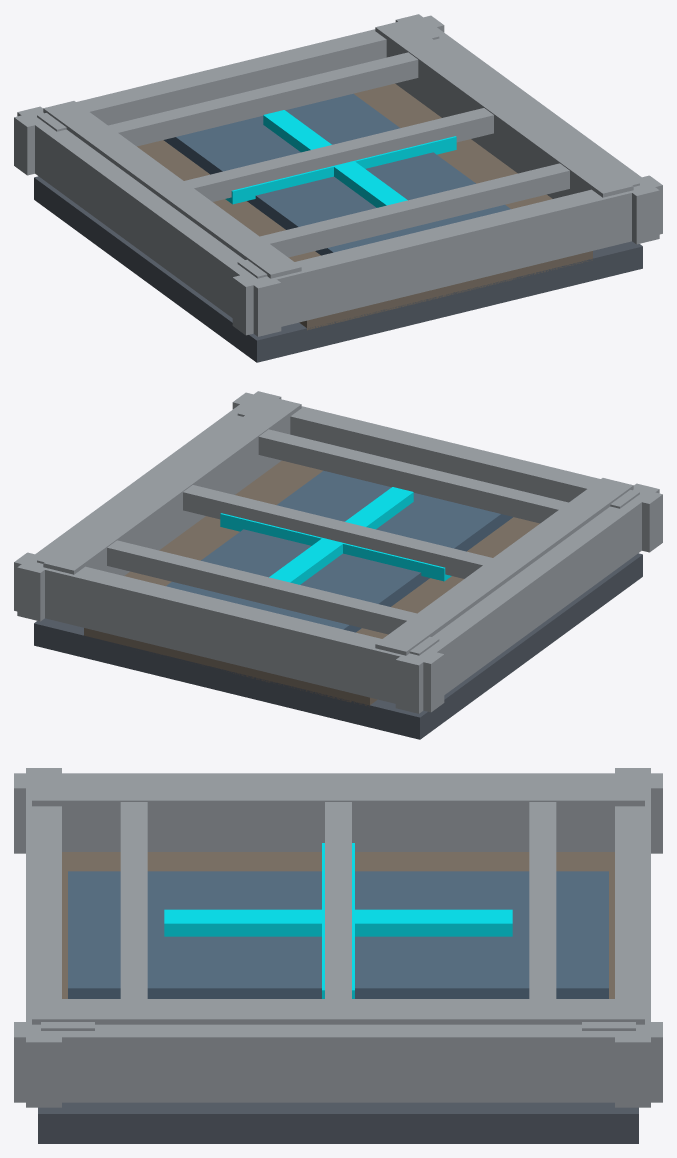
Rendered from TD_BridgeTile.fbx.
3 views of the same model, one above another, from view 1: azimuth 30°, elevation 25°; view 2: azimuth 150°, elevation 25°; view 3: azimuth 270°, elevation 25° (orthographic). The views are drawn at different scales.
Parts seen in each view (by area): view 1: TD_BridgeTile_Rail_South, TD_BridgeTile_CenterWalkPath, TD_BridgeTile_BaseGapShadow, TD_BridgeTile_Rail_West, TD_BridgeTile_SideBeam_Right, TD_BridgeTile_Rail_North, TD_BridgeTile_BridgeDeck, TD_BridgeTile_CrossBrace_01, TD_BridgeTile_CrossBrace_03, TD_BridgeTile_SideBeam_Left, TD_BridgeTile_CrossBrace_02, TD_BridgeTile_Rail_East (+2 smaller); view 2: TD_BridgeTile_Rail_North, TD_BridgeTile_CenterWalkPath, TD_BridgeTile_BaseGapShadow, TD_BridgeTile_Rail_West, TD_BridgeTile_SideBeam_Right, TD_BridgeTile_Rail_South, TD_BridgeTile_BridgeDeck, TD_BridgeTile_CrossBrace_03, TD_BridgeTile_CrossBrace_01, TD_BridgeTile_SideBeam_Left, TD_BridgeTile_CrossBrace_02, TD_BridgeTile_Rail_East (+2 smaller); view 3: TD_BridgeTile_CenterWalkPath, TD_BridgeTile_Rail_East, TD_BridgeTile_SideBeam_Left, TD_BridgeTile_BaseGapShadow, TD_BridgeTile_SideBeam_Right, TD_BridgeTile_BridgeDeck, TD_BridgeTile_Rail_North, TD_BridgeTile_Rail_South, TD_BridgeTile_Flow_North, TD_BridgeTile_Rail_West, TD_BridgeTile_CrossBrace_01, TD_BridgeTile_CrossBrace_03 (+2 smaller).
Part boxes in pixels (box(x1,y1,x2,y2)): TD_BridgeTile_Rail_South: box(232, 175, 662, 335); TD_BridgeTile_CenterWalkPath: box(163, 93, 510, 255); TD_BridgeTile_BaseGapShadow: box(34, 176, 642, 362); TD_BridgeTile_Rail_West: box(17, 106, 281, 336); TD_BridgeTile_SideBeam_Right: box(375, 20, 633, 198); TD_BridgeTile_Rail_North: box(14, 15, 444, 175); TD_BridgeTile_BridgeDeck: box(137, 83, 592, 330); TD_BridgeTile_CrossBrace_01: box(260, 163, 569, 257); TD_BridgeTile_CrossBrace_03: box(108, 52, 418, 146); TD_BridgeTile_SideBeam_Left: box(43, 101, 301, 278); TD_BridgeTile_CrossBrace_02: box(184, 108, 493, 201); TD_BridgeTile_Rail_East: box(395, 14, 659, 244); TD_BridgeTile_Rail_North: box(14, 552, 444, 712); TD_BridgeTile_CenterWalkPath: box(166, 470, 513, 632); TD_BridgeTile_BaseGapShadow: box(34, 553, 642, 739); TD_BridgeTile_Rail_West: box(395, 483, 659, 713); TD_BridgeTile_SideBeam_Right: box(43, 397, 301, 575); TD_BridgeTile_Rail_South: box(232, 392, 662, 552); TD_BridgeTile_BridgeDeck: box(84, 460, 539, 707); TD_BridgeTile_CrossBrace_03: box(107, 540, 416, 634); TD_BridgeTile_CrossBrace_01: box(258, 429, 568, 523); TD_BridgeTile_SideBeam_Left: box(375, 478, 633, 655); TD_BridgeTile_CrossBrace_02: box(183, 485, 492, 578); TD_BridgeTile_Rail_East: box(17, 391, 281, 621); TD_BridgeTile_CenterWalkPath: box(68, 871, 608, 998); TD_BridgeTile_Rail_East: box(14, 1022, 662, 1102); TD_BridgeTile_SideBeam_Left: box(32, 780, 644, 851); TD_BridgeTile_BaseGapShadow: box(38, 1102, 638, 1143); TD_BridgeTile_SideBeam_Right: box(32, 999, 644, 1024); TD_BridgeTile_BridgeDeck: box(62, 852, 614, 998); TD_BridgeTile_Rail_North: box(615, 768, 650, 1107); TD_BridgeTile_Rail_South: box(26, 768, 61, 1107); TD_BridgeTile_Flow_North: box(164, 909, 512, 936); TD_BridgeTile_Rail_West: box(14, 773, 662, 853); TD_BridgeTile_CrossBrace_01: box(120, 802, 147, 998); TD_BridgeTile_CrossBrace_03: box(529, 802, 556, 998).
Size of the model in its own units: 108 by 21.5 by 108.
